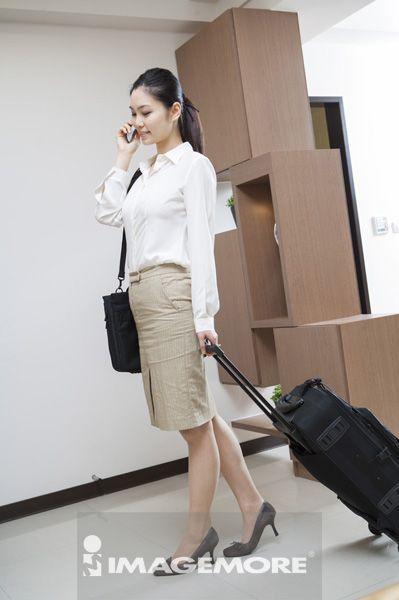talk: (113, 103, 159, 164)
